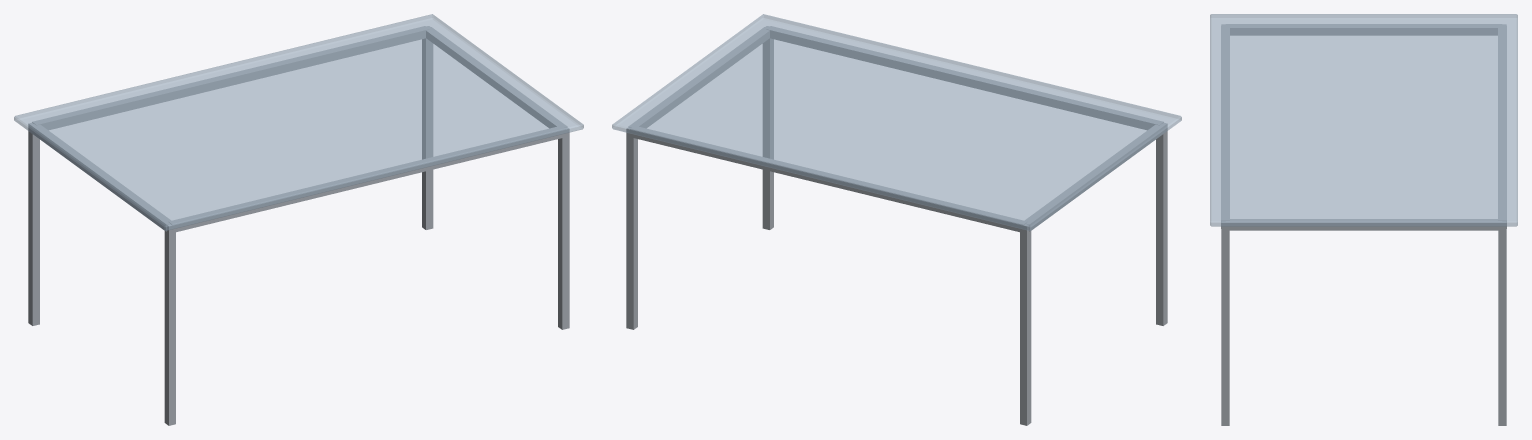
Rendered from dining_table.glb.
The picture shows the model from 3 angles, left to right: view 1: azimuth 30°, elevation 25°; view 2: azimuth 150°, elevation 25°; view 3: azimuth 270°, elevation 25°; orthographic projection.
Visible parts, largest first — view 1: dining_table; view 2: dining_table; view 3: dining_table.
Part boxes in pixels (x1,y1,x2,y2): dining_table: [14, 14, 583, 425]; dining_table: [612, 14, 1181, 425]; dining_table: [1210, 14, 1517, 425].
Size of the model in its own units: 1.6 by 0.75 by 1.
